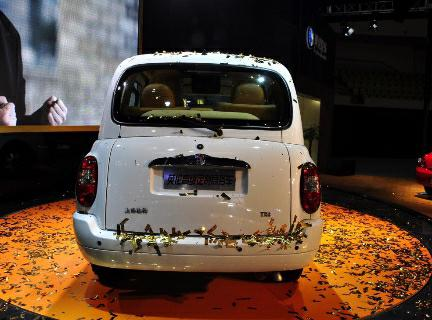吉利汽车-英伦TX4: (71, 45, 330, 291)
